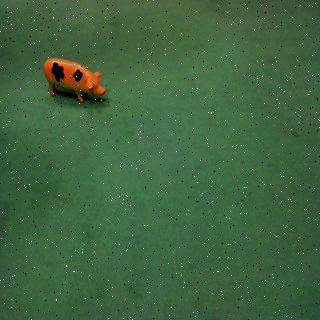pig: (40, 52, 112, 105)
